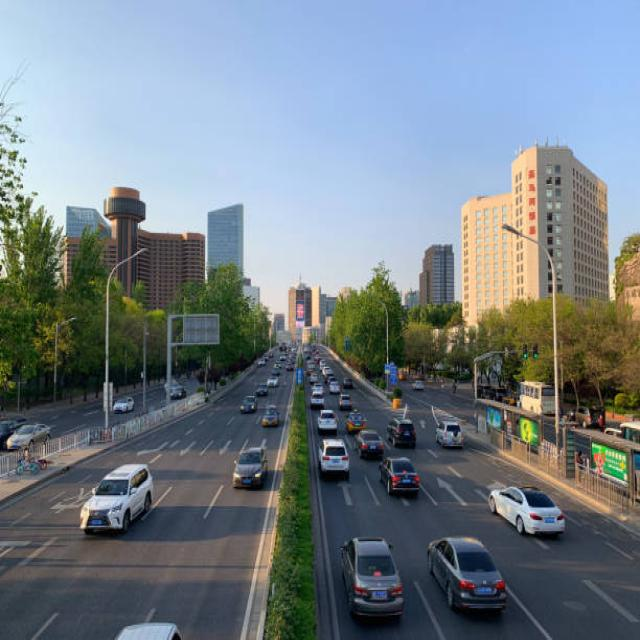Ad-signs: (590, 441, 628, 485)
Bus: (518, 379, 558, 416)
Car: (427, 536, 507, 614), (338, 535, 404, 622), (80, 463, 152, 534), (487, 484, 565, 537), (378, 456, 420, 495), (232, 446, 268, 488), (114, 622, 182, 638), (112, 394, 134, 412)
Traffic-light: (532, 342, 538, 358), (522, 343, 527, 358)
